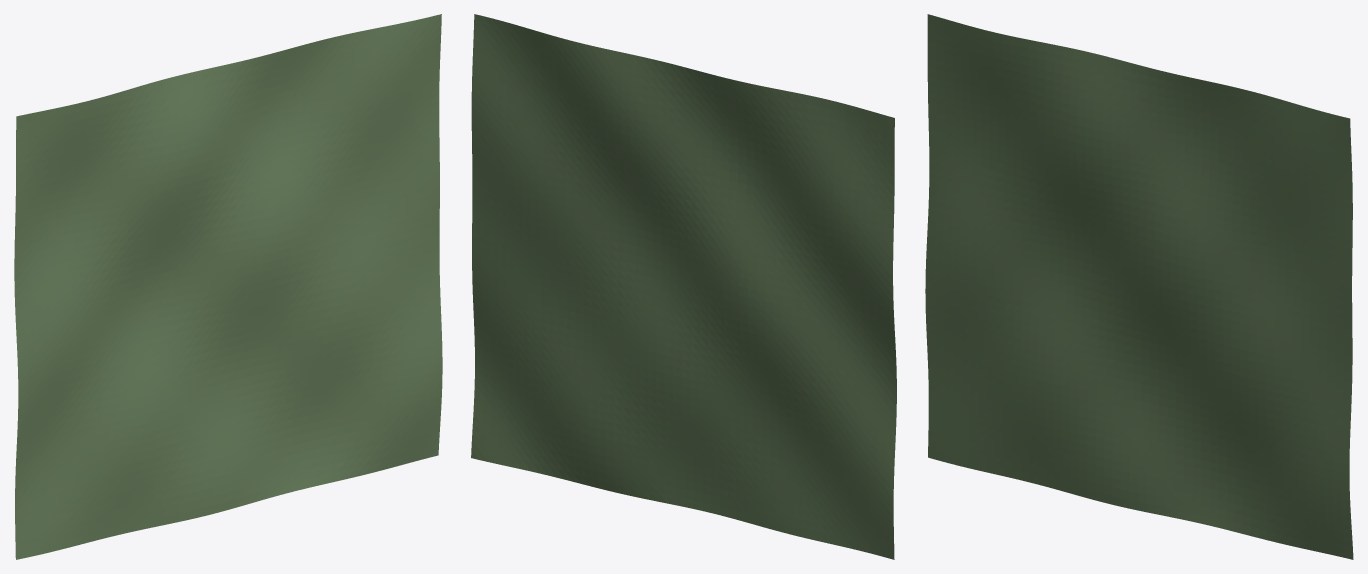
File: lowair_demo_terrain.obj
3 renders of one model, left to right at view 1: azimuth 30°, elevation 25°; view 2: azimuth 150°, elevation 25°; view 3: azimuth 330°, elevation 25°, orthographic.
Visible parts, largest first — view 1: terrain; view 2: terrain; view 3: terrain.
Part boxes in pixels (bbox=[...]): terrain: bbox=[14, 14, 442, 559]; terrain: bbox=[471, 14, 896, 559]; terrain: bbox=[925, 14, 1353, 559].
Size of the model in its own units: 80 by 80 by 2.43.
